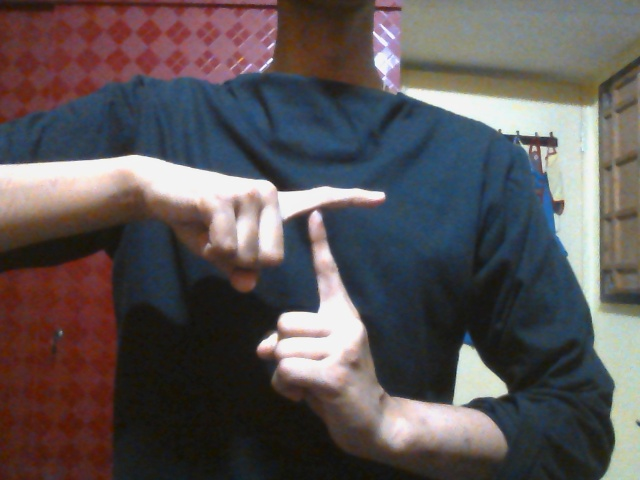T: (154, 162, 388, 415)
